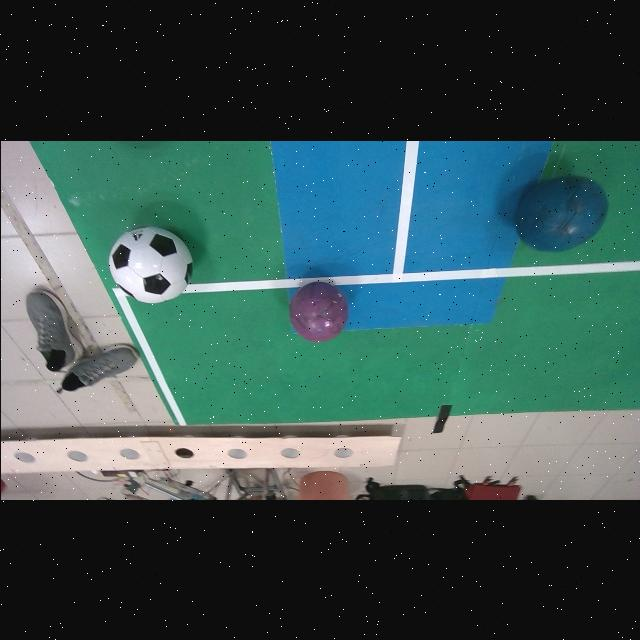B: (515, 175, 607, 252)
P: (289, 282, 347, 341)
